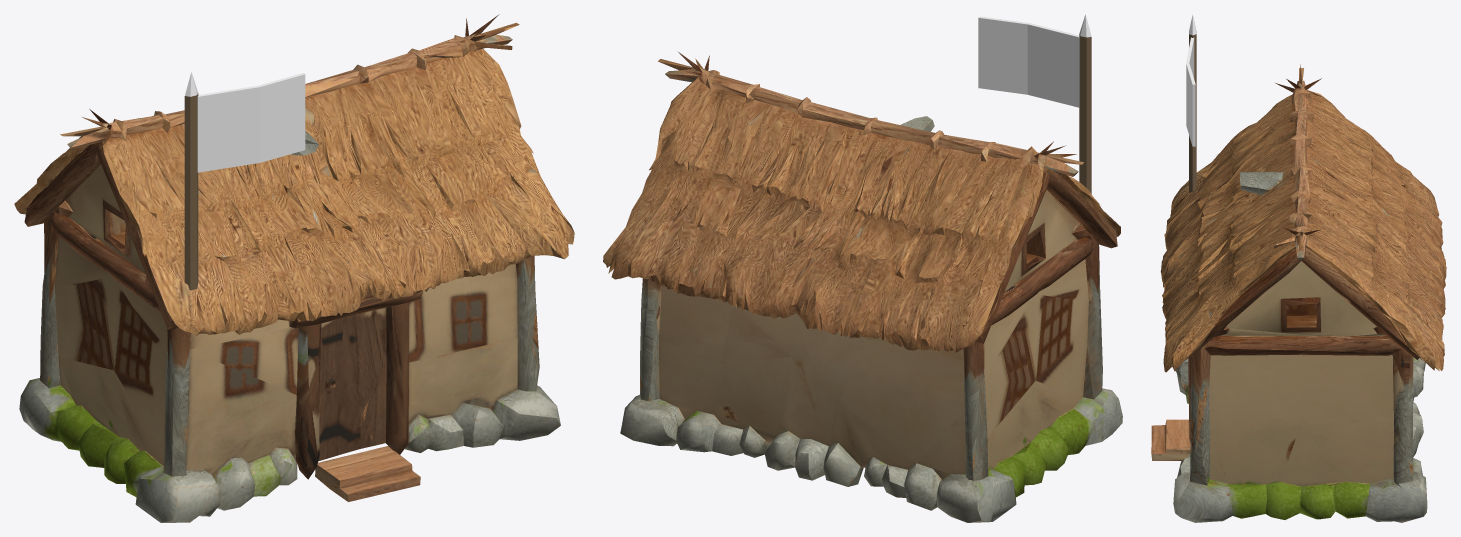
3 views of the same model, side by side, from view 1: azimuth 30°, elevation 25°; view 2: azimuth 150°, elevation 25°; view 3: azimuth 270°, elevation 25° (orthographic). The views are drawn at different scales.
Parts seen in each view (by area): view 1: house, Team_banner; view 2: house, Team_banner; view 3: house, Team_banner.
Boxes of the visible parts, box(x1,y1,x2,y2) form: house: box(14, 14, 574, 522); Team_banner: box(184, 71, 305, 290); house: box(603, 52, 1122, 522); Team_banner: box(978, 14, 1091, 193); house: box(1151, 64, 1446, 522); Team_banner: box(1186, 14, 1196, 192).
Bounding box in the file's own units: 1.9 × 1.78 × 1.29.
3 materials, 1 textured.
